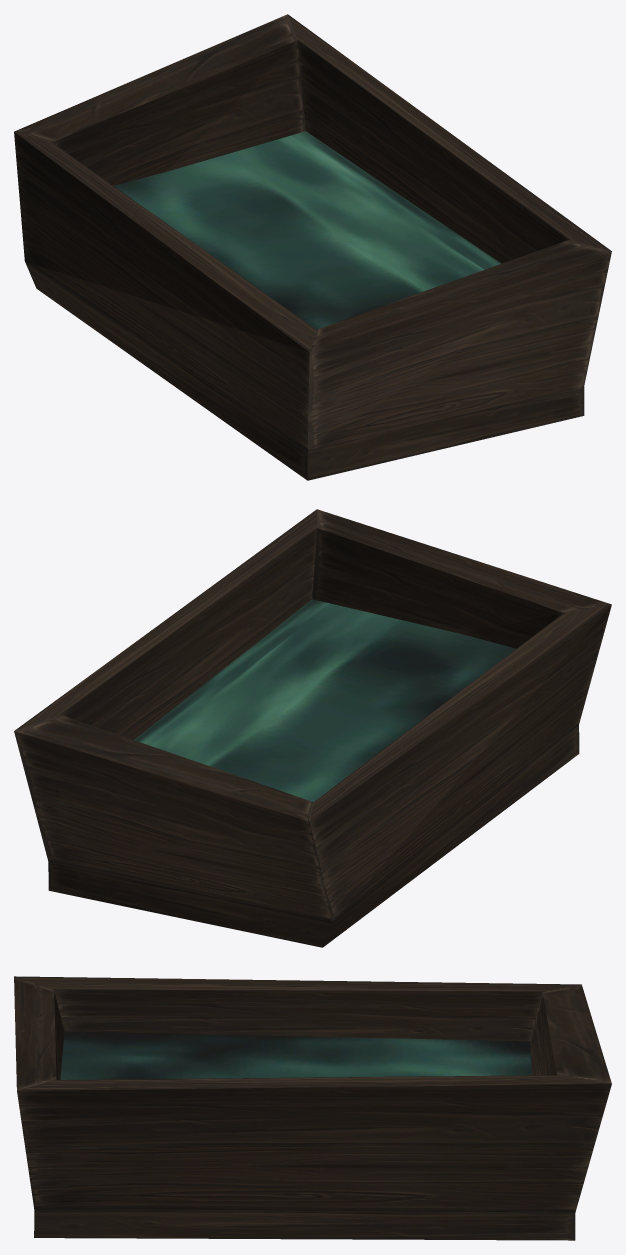
File: worgen_trough.obj
The picture shows the model from 3 angles, top to bottom: view 1: azimuth 30°, elevation 25°; view 2: azimuth 150°, elevation 25°; view 3: azimuth 270°, elevation 25°; orthographic projection. The views are drawn at different scales.
Visible parts, largest first — view 1: WORGEN_TROUGH0, WORGEN_TROUGH3; view 2: WORGEN_TROUGH0, WORGEN_TROUGH3; view 3: WORGEN_TROUGH0, WORGEN_TROUGH3.
Boxes of the visible parts, box(x1,y1,x2,y2) form: WORGEN_TROUGH0: box(14, 14, 611, 480); WORGEN_TROUGH3: box(113, 131, 501, 329); WORGEN_TROUGH0: box(14, 509, 611, 947); WORGEN_TROUGH3: box(134, 599, 516, 801); WORGEN_TROUGH0: box(14, 976, 611, 1240); WORGEN_TROUGH3: box(60, 1031, 531, 1079).
Size of the model in its own units: 1.68 by 0.949 by 3.07.
2 materials, 2 textured.
